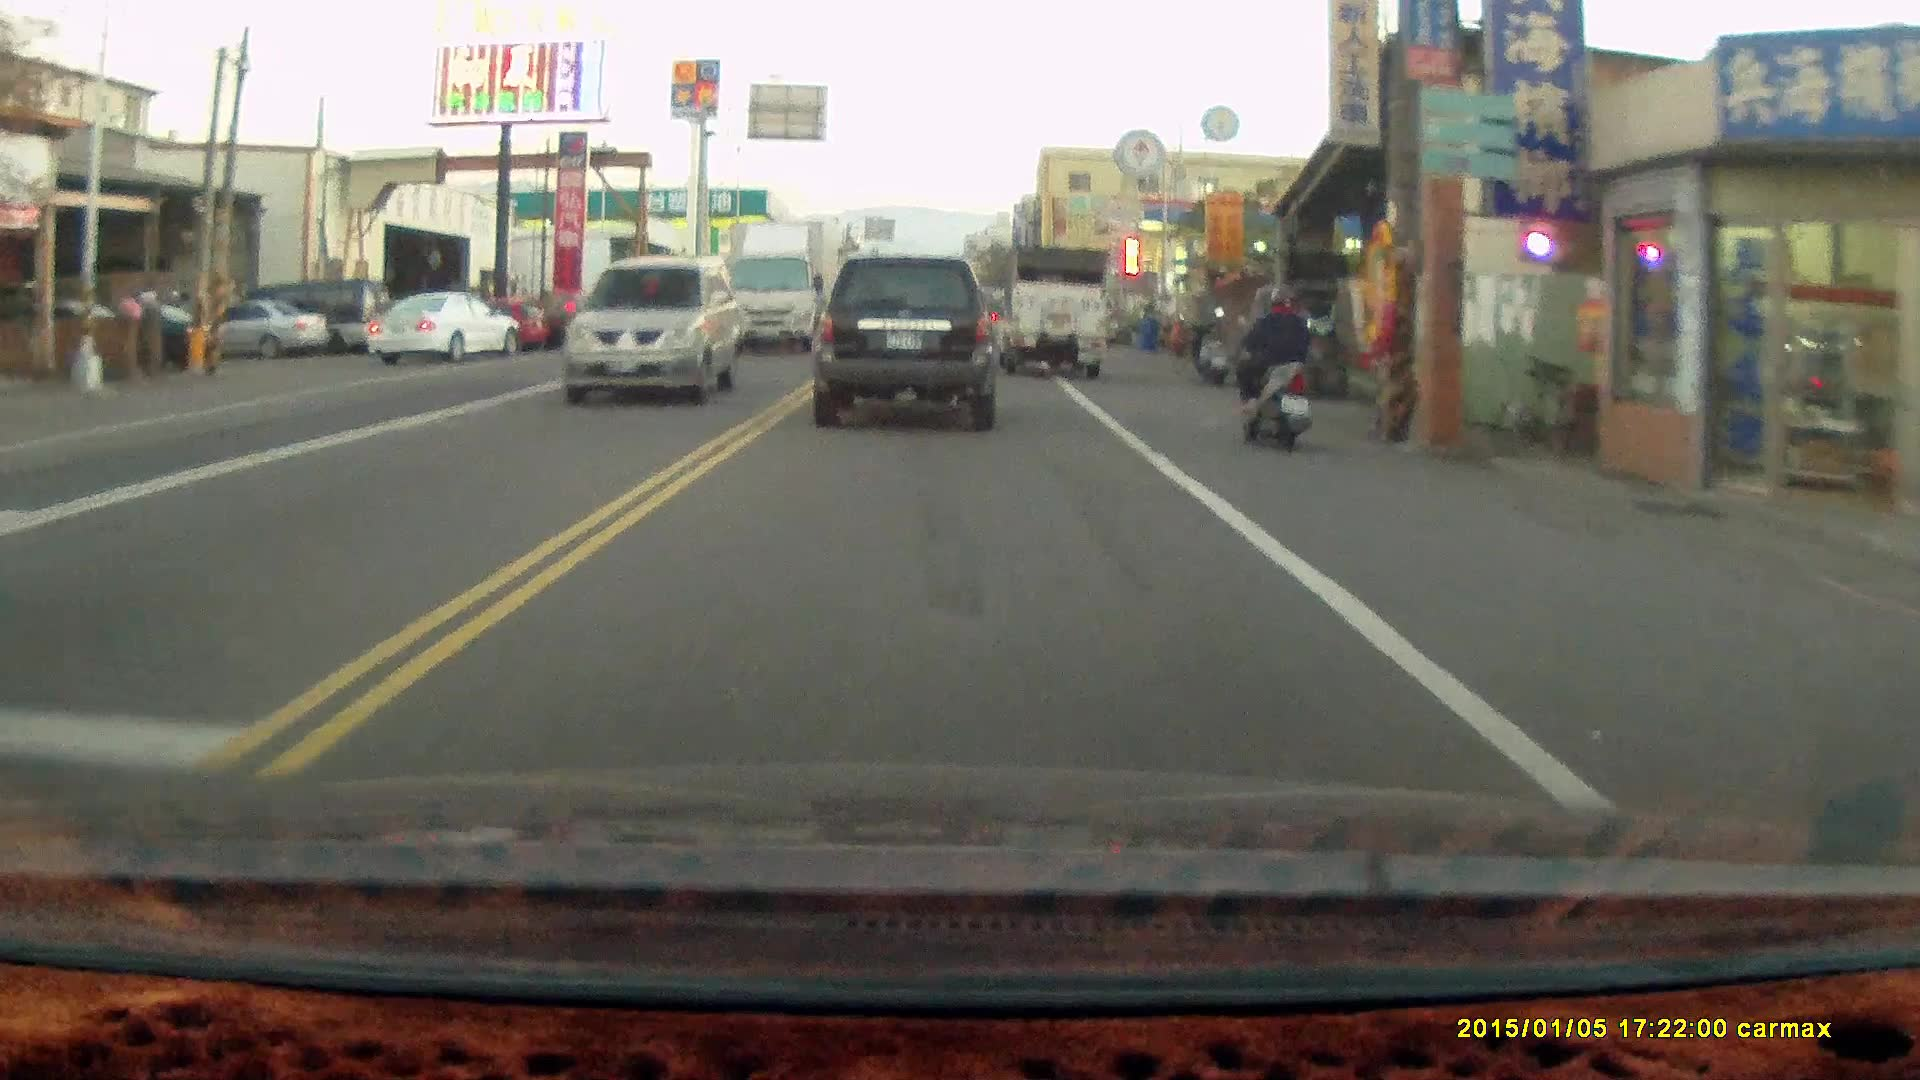rider: (1222, 285, 1316, 455)
vehicle: (810, 254, 998, 431), (563, 261, 740, 409), (993, 243, 1107, 379), (730, 224, 836, 359), (366, 297, 522, 367), (211, 302, 335, 362)
